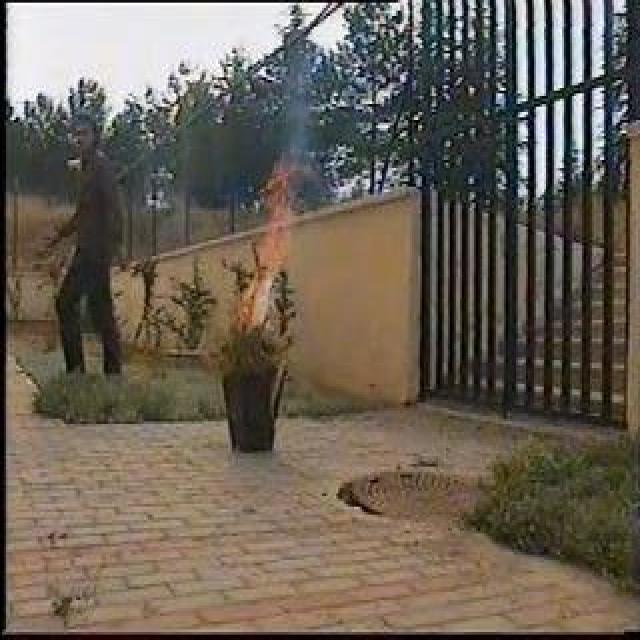fire: (238, 164, 300, 327)
